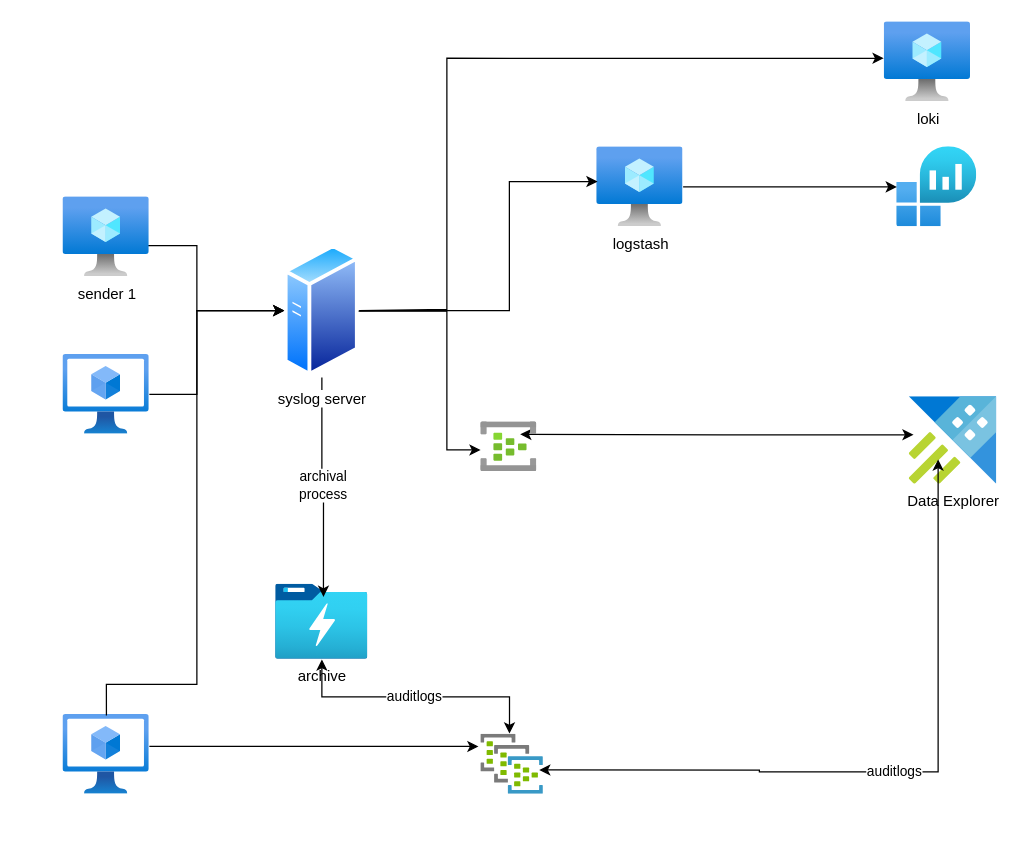
Image size: 1020x860. Some labels were removed from this diagram. Here are the shapes that lost their labels. From the top down, the centre of each, then its label:
At point (105, 394): "sender n".
At point (508, 446): "Azure Event Hub".
At point (105, 754): "fetch data from event hub and become sender n+1".
